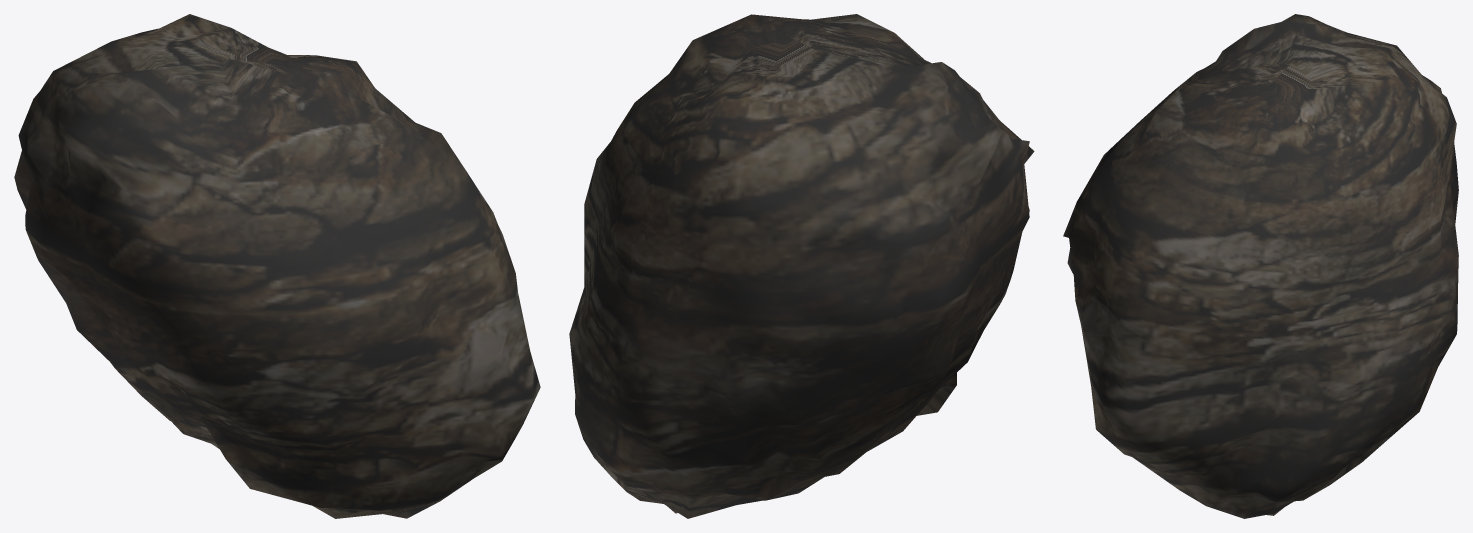
3 renders of one model, left to right at view 1: azimuth 30°, elevation 25°; view 2: azimuth 150°, elevation 25°; view 3: azimuth 270°, elevation 25°, orthographic. The views are drawn at different scales.
Visible parts, largest first — view 1: AsteroidB3; view 2: AsteroidB3; view 3: AsteroidB3.
Boxes of the visible parts, x1,y1,x2,y2 form: AsteroidB3: [14, 14, 540, 518]; AsteroidB3: [569, 14, 1034, 518]; AsteroidB3: [1063, 14, 1458, 518].
Bounding box in the file's own units: 1.14 × 1.34 × 1.2.
1 material, 1 textured.
